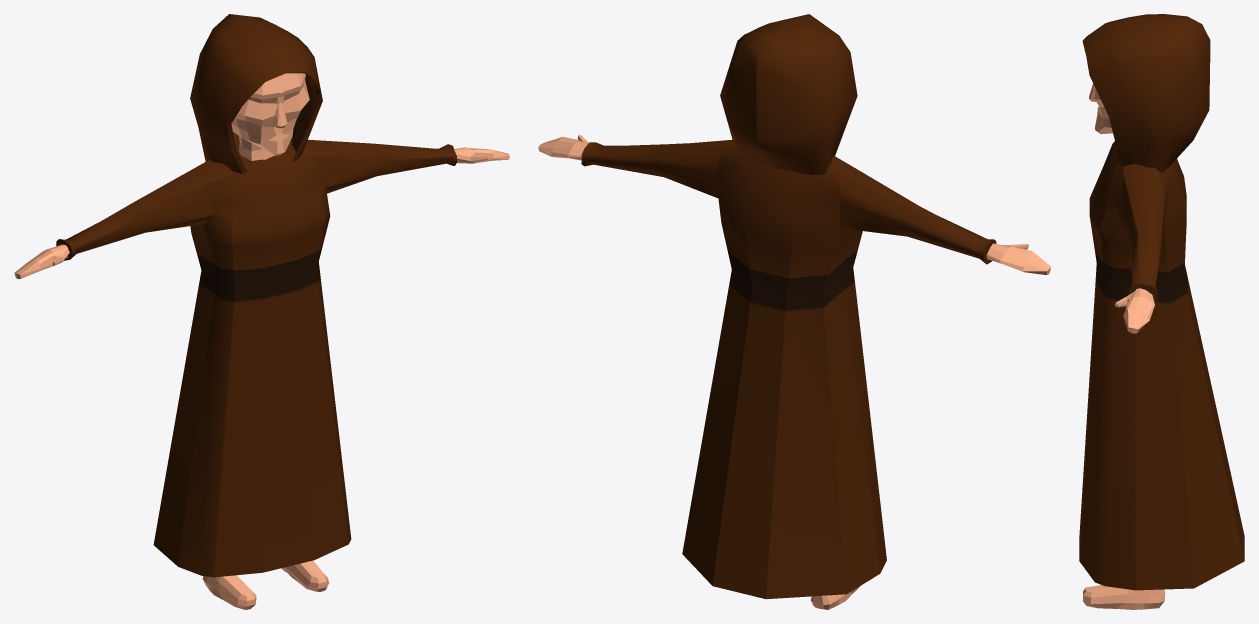
The model's file is Priest.fbx.
The picture shows the model from 3 angles, left to right: view 1: azimuth 30°, elevation 25°; view 2: azimuth 150°, elevation 25°; view 3: azimuth 270°, elevation 25°; orthographic projection. The views are drawn at different scales.
Visible parts, largest first — view 1: Priest; view 2: Priest; view 3: Priest.
Boxes of the visible parts, x1=… form: Priest: x1=14, y1=14, x2=509, y2=609; Priest: x1=538, y1=14, x2=1050, y2=609; Priest: x1=1079, y1=14, x2=1244, y2=609.
Size of the model in its own units: 5.9 by 6.33 by 1.66.
